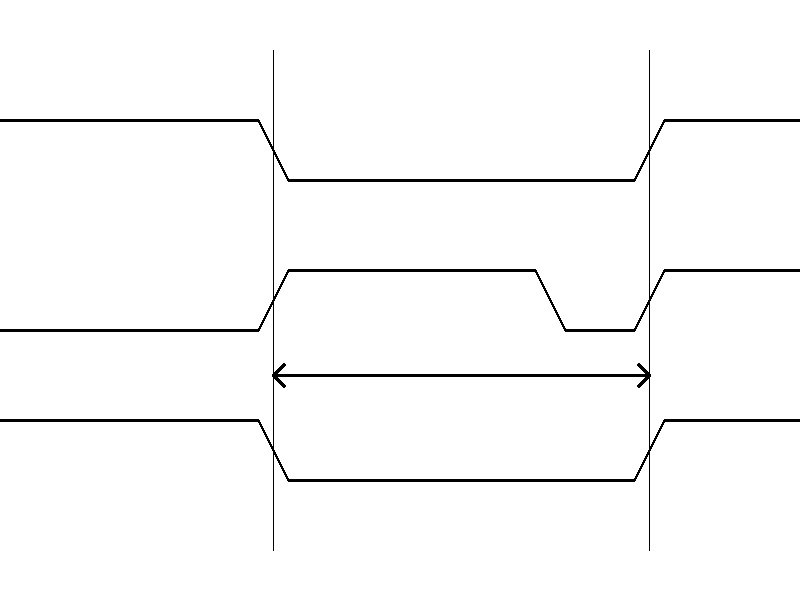double_arrow: (273, 360, 649, 390)
